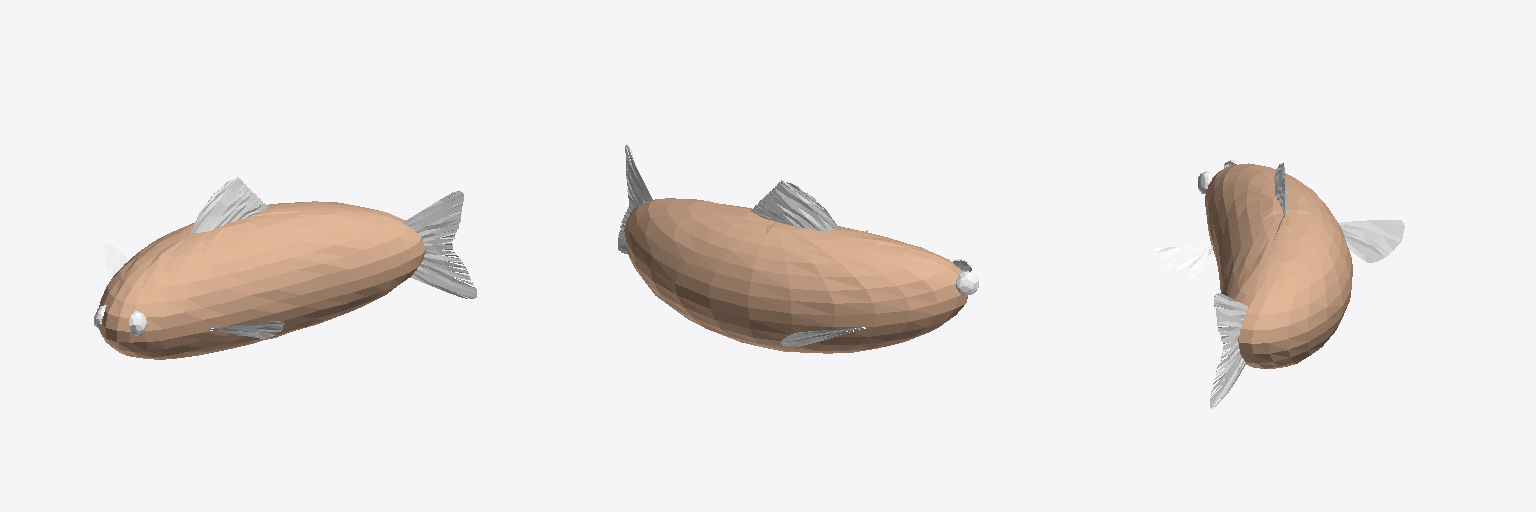
Rendered from fishR.obj.
3 renders of one model, left to right at view 1: azimuth 30°, elevation 25°; view 2: azimuth 150°, elevation 25°; view 3: azimuth 270°, elevation 25°, orthographic.
Parts seen in each view (by area): view 1: Sphere001, object9, object2, object4; view 2: Sphere001, object2, object9, object5; view 3: Sphere001, object9, object5, object4.
Boxes of the visible parts, x1=… form: Sphere001: x1=99, y1=201, x2=425, y2=359; object9: x1=403, y1=191, x2=476, y2=298; object2: x1=190, y1=177, x2=267, y2=233; object4: x1=209, y1=321, x2=284, y2=338; Sphere001: x1=624, y1=198, x2=967, y2=353; object2: x1=751, y1=180, x2=839, y2=230; object9: x1=618, y1=145, x2=652, y2=253; object5: x1=781, y1=327, x2=866, y2=346; Sphere001: x1=1205, y1=163, x2=1352, y2=368; object9: x1=1210, y1=293, x2=1247, y2=408; object5: x1=1339, y1=220, x2=1404, y2=262; object4: x1=1155, y1=245, x2=1212, y2=279.
Bounding box in the file's own units: 2.96 × 1.24 × 1.73.